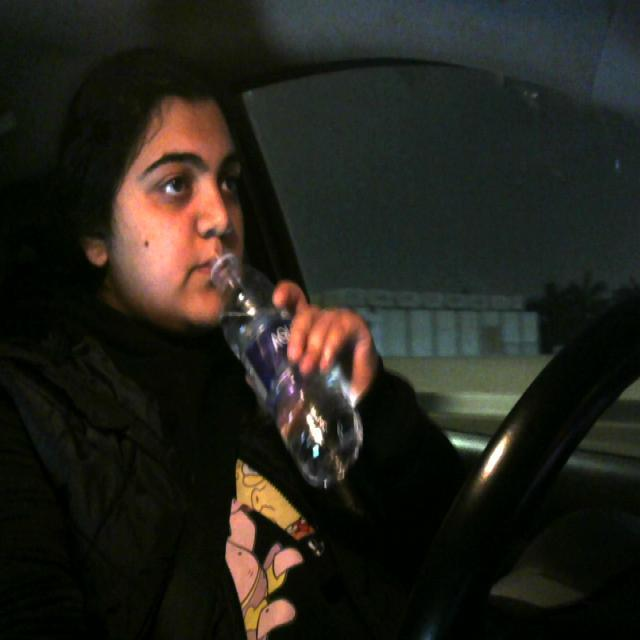Drinking: (78, 92, 365, 492)
